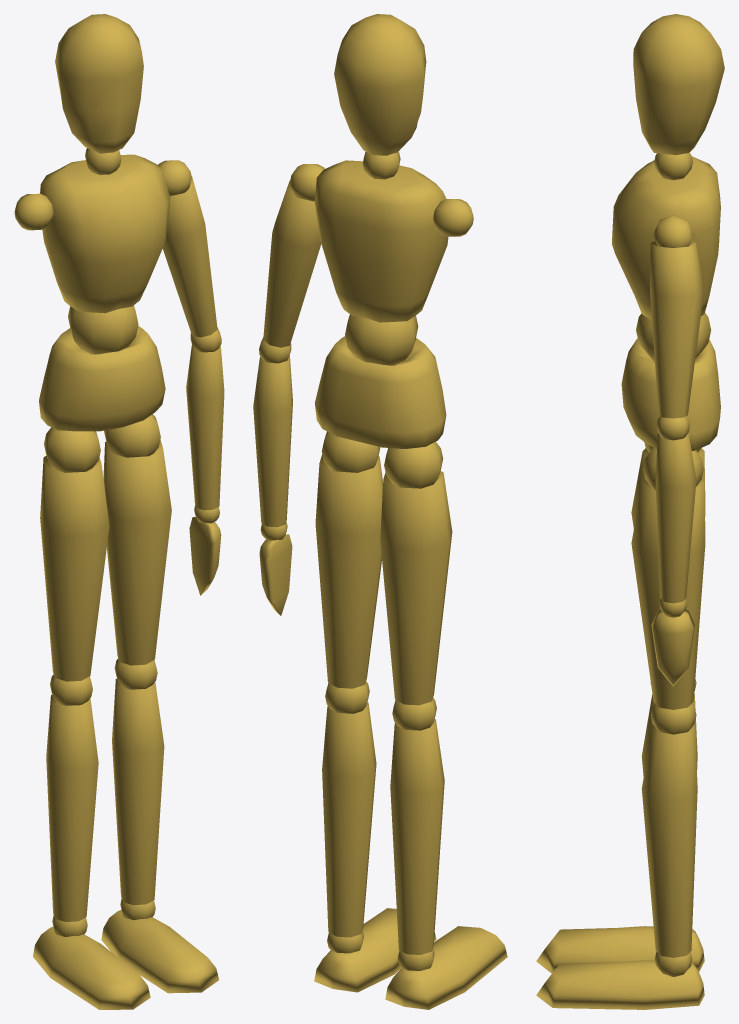
Rendered from wooden_body.obj.
The picture shows the model from 3 angles, left to right: view 1: azimuth 30°, elevation 25°; view 2: azimuth 150°, elevation 25°; view 3: azimuth 270°, elevation 25°; orthographic projection. The views are drawn at different scales.
Visible parts, largest first — view 1: Mannaquin:Mesh polySurface12, Mannaquin:Mesh polySurface25, Mannaquin:Mesh polySurface6, Mannaquin:Mesh polySurface2, Mannaquin:Mesh polySurface19, Mannaquin:Mesh polySurface27, Mannaquin:Mesh polySurface7, Mannaquin:Mesh polySurface28, Mannaquin:Mesh polySurface9, Mannaquin:Mesh polySurface20, Mannaquin:Mesh polySurface22, Mannaquin:Mesh polySurface3 (+11 smaller); view 2: Mannaquin:Mesh polySurface12, Mannaquin:Mesh polySurface25, Mannaquin:Mesh polySurface6, Mannaquin:Mesh polySurface2, Mannaquin:Mesh polySurface27, Mannaquin:Mesh polySurface7, Mannaquin:Mesh polySurface19, Mannaquin:Mesh polySurface20, Mannaquin:Mesh polySurface28, Mannaquin:Mesh polySurface22, Mannaquin:Mesh polySurface9, Mannaquin:Mesh polySurface3 (+10 smaller); view 3: Mannaquin:Mesh polySurface7, Mannaquin:Mesh polySurface19, Mannaquin:Mesh polySurface12, Mannaquin:Mesh polySurface20, Mannaquin:Mesh polySurface6, Mannaquin:Mesh polySurface9, Mannaquin:Mesh polySurface22, Mannaquin:Mesh polySurface2, Mannaquin:Mesh polySurface28, Mannaquin:Mesh polySurface24, Mannaquin:Mesh polySurface5, Mannaquin:Mesh polySurface10 (+7 smaller).
Boxes of the visible parts, bbox=[...] form: Mannaquin:Mesh polySurface12: bbox=[40, 154, 170, 313]; Mannaquin:Mesh polySurface25: bbox=[40, 456, 109, 681]; Mannaquin:Mesh polySurface6: bbox=[103, 440, 171, 665]; Mannaquin:Mesh polySurface2: bbox=[39, 326, 165, 431]; Mannaquin:Mesh polySurface19: bbox=[55, 14, 143, 153]; Mannaquin:Mesh polySurface27: bbox=[46, 695, 98, 921]; Mannaquin:Mesh polySurface7: bbox=[112, 678, 164, 905]; Mannaquin:Mesh polySurface28: bbox=[33, 927, 150, 1009]; Mannaquin:Mesh polySurface9: bbox=[101, 910, 218, 993]; Mannaquin:Mesh polySurface20: bbox=[162, 176, 217, 337]; Mannaquin:Mesh polySurface22: bbox=[186, 345, 224, 510]; Mannaquin:Mesh polySurface3: bbox=[68, 305, 138, 354]; Mannaquin:Mesh polySurface12: bbox=[314, 160, 448, 322]; Mannaquin:Mesh polySurface25: bbox=[380, 471, 452, 705]; Mannaquin:Mesh polySurface6: bbox=[315, 454, 382, 688]; Mannaquin:Mesh polySurface2: bbox=[315, 336, 446, 448]; Mannaquin:Mesh polySurface27: bbox=[390, 719, 444, 954]; Mannaquin:Mesh polySurface7: bbox=[322, 702, 376, 937]; Mannaquin:Mesh polySurface19: bbox=[334, 14, 426, 155]; Mannaquin:Mesh polySurface20: bbox=[263, 180, 321, 347]; Mannaquin:Mesh polySurface28: bbox=[385, 926, 507, 1009]; Mannaquin:Mesh polySurface22: bbox=[253, 355, 292, 527]; Mannaquin:Mesh polySurface9: bbox=[314, 908, 436, 992]; Mannaquin:Mesh polySurface3: bbox=[345, 314, 418, 365]; Mannaquin:Mesh polySurface7: bbox=[641, 725, 697, 957]; Mannaquin:Mesh polySurface19: bbox=[633, 14, 724, 155]; Mannaquin:Mesh polySurface12: bbox=[612, 156, 720, 319]; Mannaquin:Mesh polySurface20: bbox=[650, 240, 703, 418]; Mannaquin:Mesh polySurface6: bbox=[631, 479, 705, 709]; Mannaquin:Mesh polySurface9: bbox=[536, 960, 704, 1009]; Mannaquin:Mesh polySurface22: bbox=[655, 433, 696, 603]; Mannaquin:Mesh polySurface2: bbox=[621, 338, 720, 450]; Mannaquin:Mesh polySurface28: bbox=[536, 926, 704, 973]; Mannaquin:Mesh polySurface24: bbox=[651, 609, 694, 686]; Mannaquin:Mesh polySurface5: bbox=[650, 703, 696, 734]; Mannaquin:Mesh polySurface10: bbox=[653, 215, 693, 247].
Size of the model in its own units: 3.22 by 13.88 by 2.47.
